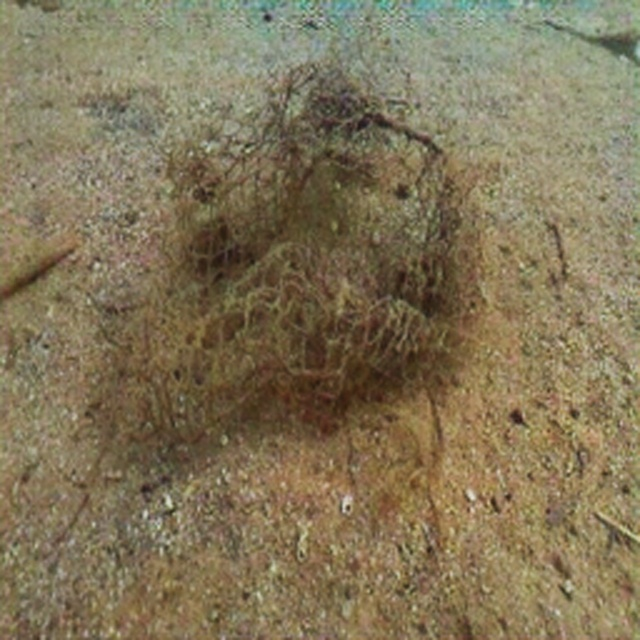mine: (128, 111, 467, 447)
